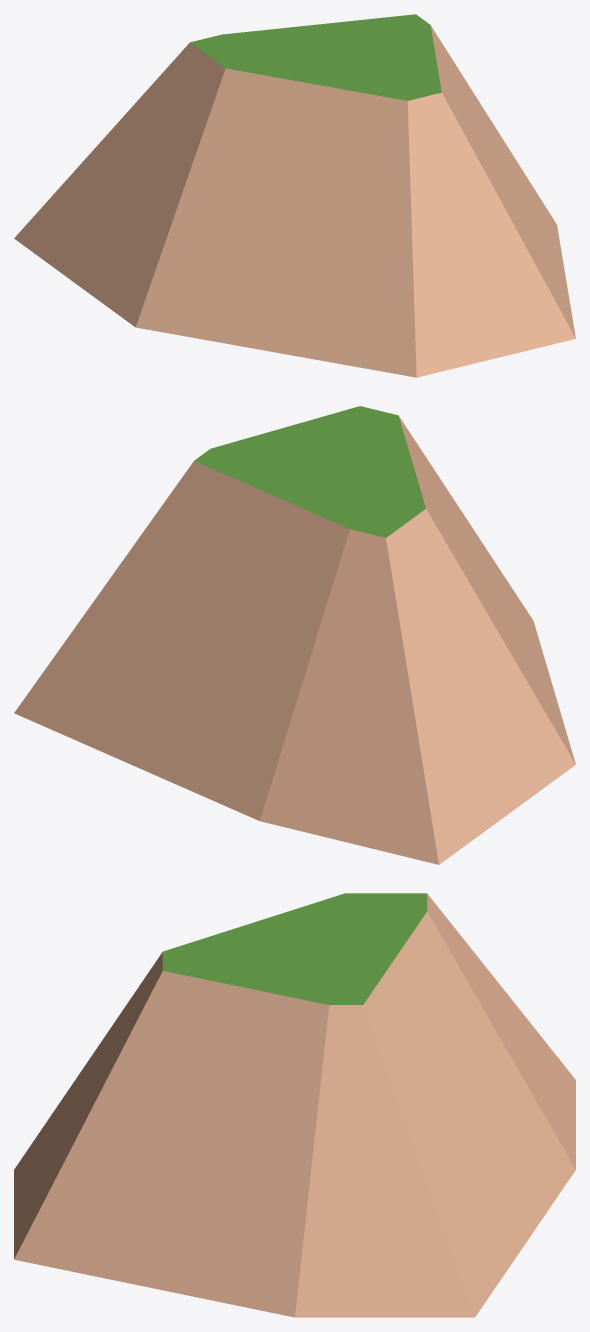
Rendered from rock-2.glb.
The picture shows the model from 3 angles, top to bottom: view 1: azimuth 30°, elevation 25°; view 2: azimuth 150°, elevation 25°; view 3: azimuth 270°, elevation 25°; orthographic projection. The views are drawn at different scales.
Visible parts, largest first — view 1: rock_smallB; view 2: rock_smallB; view 3: rock_smallB.
Part boxes in pixels (<box>): rock_smallB: <box>14,14,575,377</box>; rock_smallB: <box>14,406,575,864</box>; rock_smallB: <box>14,893,575,1317</box>.
Size of the model in its own units: 1.33 by 0.65 by 1.33.
